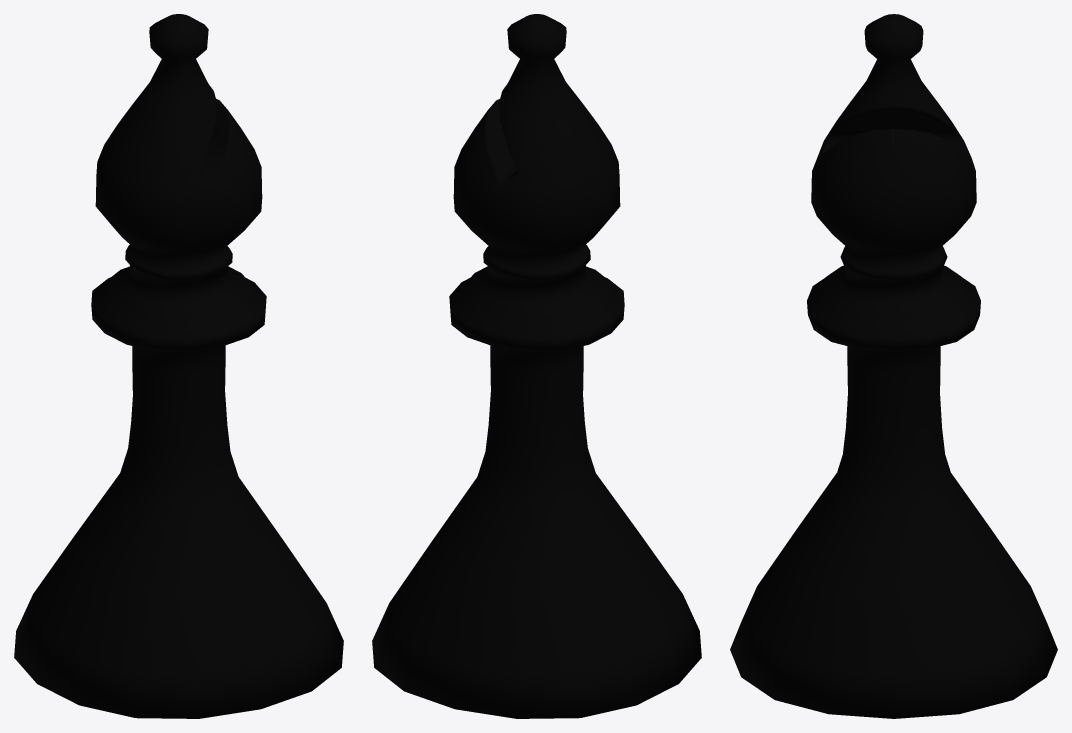
The model's file is Bispo.fbx.
3 views of the same model, side by side, from view 1: azimuth 30°, elevation 25°; view 2: azimuth 150°, elevation 25°; view 3: azimuth 270°, elevation 25° (orthographic).
Visible parts, largest first — view 1: Cube; view 2: Cube; view 3: Cube.
Part boxes in pixels (bbox=[...]): Cube: bbox=[14, 14, 343, 718]; Cube: bbox=[372, 14, 701, 718]; Cube: bbox=[730, 14, 1057, 718].
Bounding box in the file's own units: 132 × 281 × 132.
